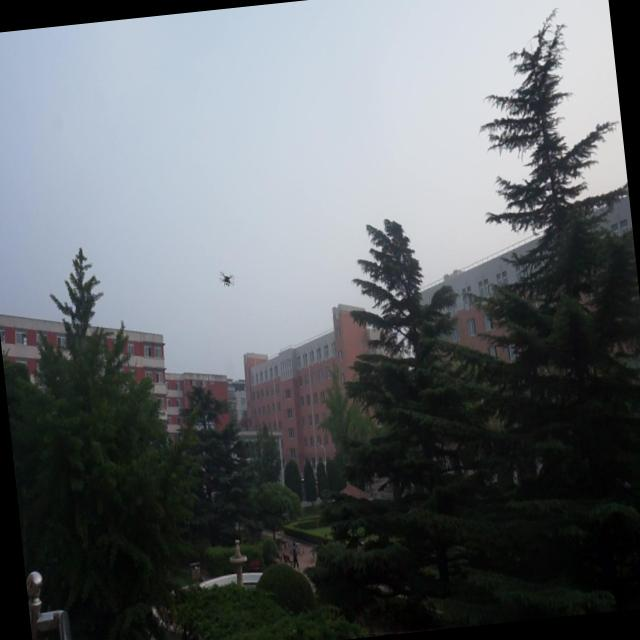drone: (216, 266, 236, 290)
